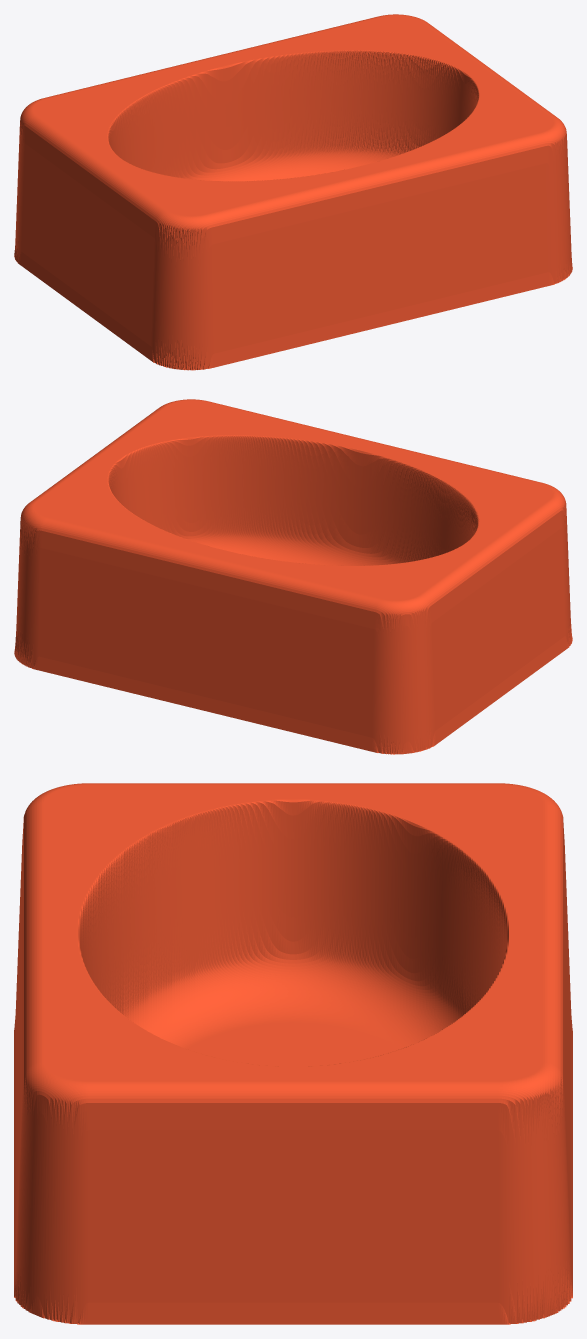
File: mold.glb
3 renders of one model, top to bottom at view 1: azimuth 30°, elevation 25°; view 2: azimuth 150°, elevation 25°; view 3: azimuth 270°, elevation 25°, orthographic. The views are drawn at different scales.
Visible parts, largest first — view 1: geometry_0; view 2: geometry_0; view 3: geometry_0.
Boxes of the visible parts, left/top/right/bottom form: geometry_0: left=14, top=14, right=572, bottom=370; geometry_0: left=14, top=399, right=572, bottom=754; geometry_0: left=14, top=783, right=572, bottom=1324.
Bounding box in the file's own units: 0.0924 × 0.031 × 0.068.
